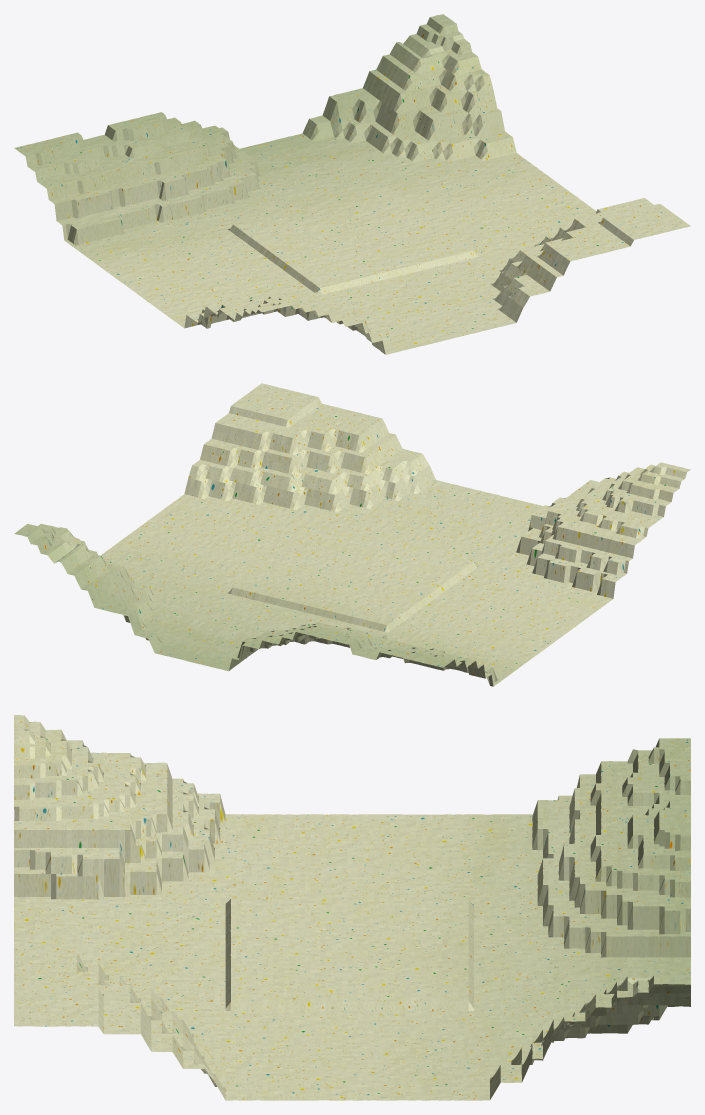
File: Suelo.obj
3 renders of one model, top to bottom at view 1: azimuth 30°, elevation 25°; view 2: azimuth 150°, elevation 25°; view 3: azimuth 270°, elevation 25°, orthographic. The views are drawn at different scales.
Parts seen in each view (by area): view 1: Plane; view 2: Plane; view 3: Plane.
Boxes of the visible parts, left/top/right/bottom form: Plane: left=14, top=14, right=690, bottom=354; Plane: left=14, top=383, right=690, bottom=686; Plane: left=14, top=715, right=690, bottom=1100.
Bounding box in the file's own units: 78.68 × 15.01 × 78.66.
